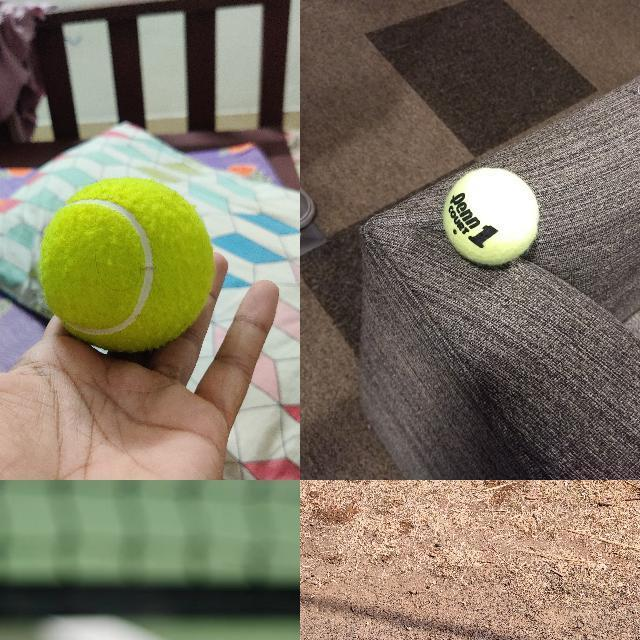tennis-ball: (37, 175, 216, 354), (441, 167, 539, 266)
